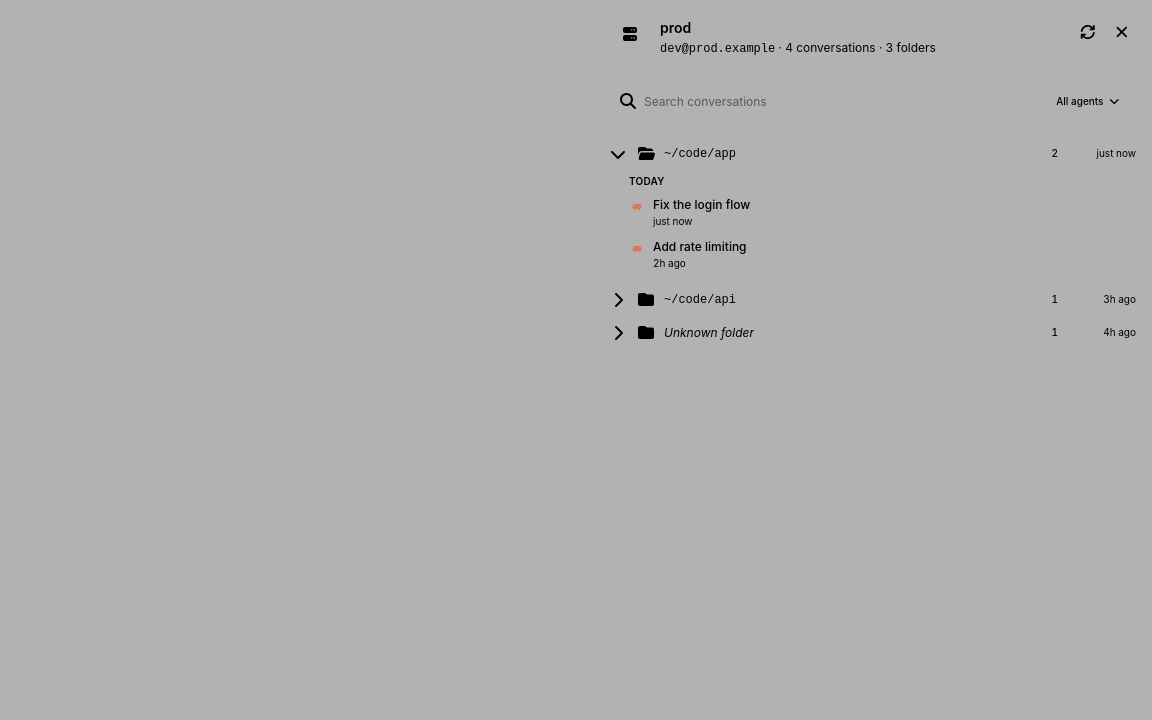
SshHistoryPanel › filters by search and opens every folder that still matches
The width and height of the screenshot is (1152, 720).
Expected: the text "Fix the login flow" is shown, [653, 197, 750, 212]
Type "schema" into the field with placeholder "Search conversations".
click(844, 101); type("schema")  # box [644, 89, 1044, 113]
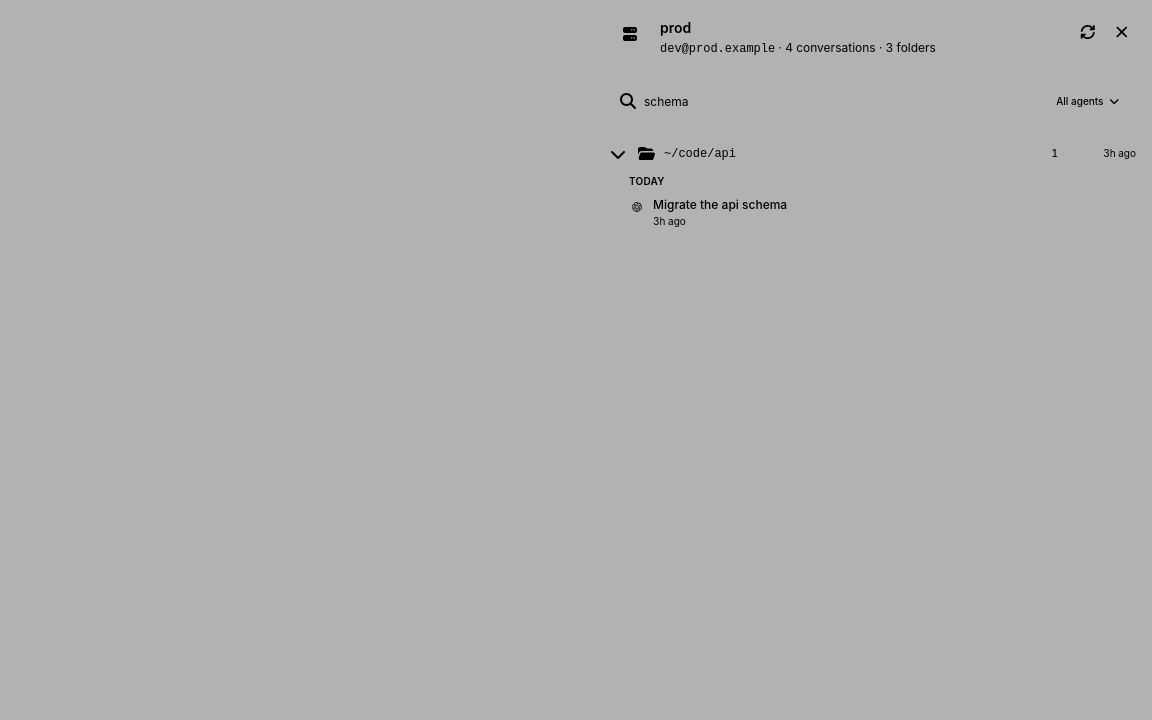
Now the button with aria-label "~/code/api" is expanded, box [600, 139, 1144, 168]
Now the text "Migrate the api schema" is shown, box [653, 197, 787, 212]
Replace the text in the field named "Search conversations" with "zzz" at (844, 101), box [644, 89, 1044, 113]
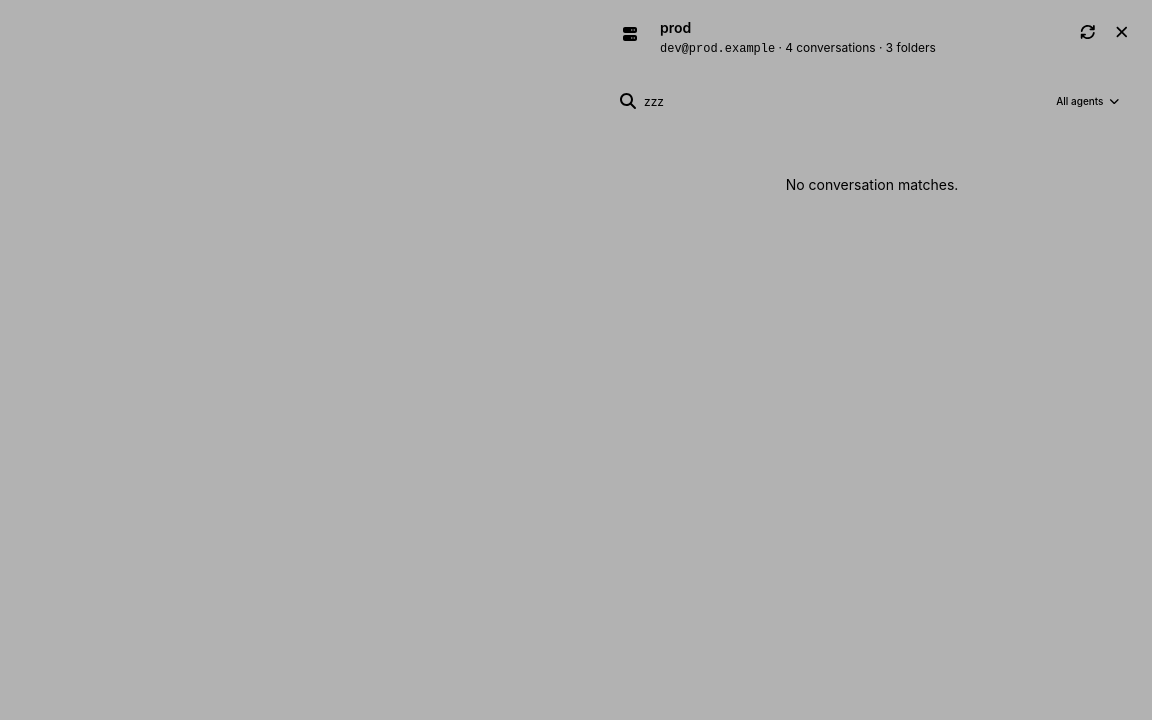
Now the text "No conversation matches." is shown, box [786, 176, 958, 193]
